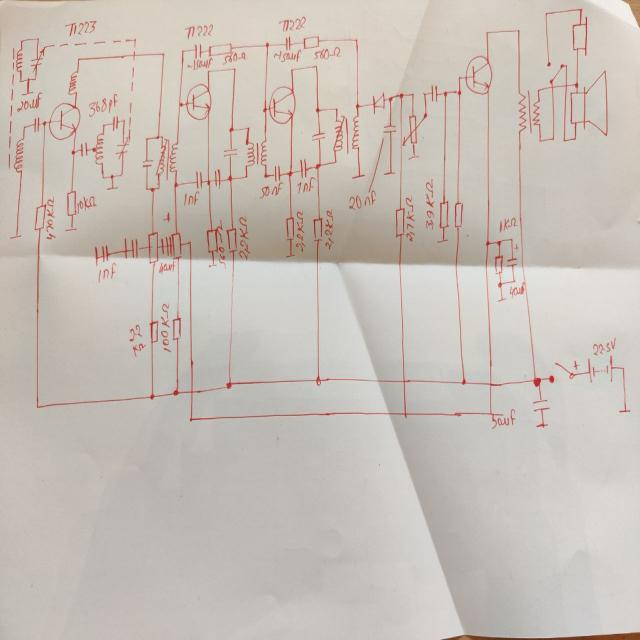capacitor: (28, 46, 46, 75), (114, 134, 133, 160), (163, 210, 173, 258), (506, 242, 520, 268), (532, 397, 550, 413), (312, 128, 326, 146), (130, 236, 140, 261), (212, 166, 222, 189), (381, 121, 396, 136), (429, 82, 439, 104), (221, 146, 239, 158), (100, 242, 110, 263), (192, 42, 202, 60), (79, 140, 89, 158), (299, 157, 307, 179), (32, 115, 41, 134), (282, 34, 292, 51), (111, 113, 119, 132), (195, 170, 203, 189), (273, 164, 281, 183), (141, 158, 153, 167)
crossover: (188, 386, 194, 396), (401, 377, 407, 384), (487, 380, 493, 387)
diode: (370, 90, 386, 114)
ground: (534, 420, 550, 430), (350, 172, 366, 181), (93, 244, 99, 266), (616, 406, 630, 414), (406, 153, 420, 161), (20, 89, 34, 97), (284, 253, 296, 262), (64, 225, 78, 232), (382, 170, 396, 177), (435, 237, 449, 244), (105, 185, 119, 192), (496, 296, 508, 304), (9, 233, 22, 240), (208, 263, 218, 269)
inductor: (4, 41, 26, 180), (67, 69, 78, 95)
junction: (530, 375, 542, 388), (225, 379, 233, 390), (172, 386, 180, 396), (315, 374, 321, 387), (69, 146, 76, 156), (460, 377, 467, 386), (228, 124, 235, 133), (315, 160, 321, 170), (177, 100, 183, 110), (354, 100, 360, 110), (398, 90, 404, 100), (442, 89, 448, 98), (227, 173, 233, 182), (149, 392, 155, 401), (456, 88, 462, 97), (34, 401, 40, 410), (160, 50, 166, 59), (149, 184, 155, 193), (264, 40, 270, 49), (206, 177, 212, 186), (144, 134, 150, 142), (620, 364, 626, 372), (484, 239, 490, 247), (314, 105, 320, 113), (187, 238, 193, 246), (287, 169, 293, 177), (187, 415, 193, 423), (495, 238, 501, 246), (549, 134, 555, 142), (409, 90, 415, 98), (572, 134, 578, 142), (560, 136, 566, 144), (332, 157, 338, 165), (34, 34, 40, 42), (172, 180, 178, 188), (535, 85, 541, 93), (574, 80, 580, 88), (313, 62, 319, 70), (232, 65, 238, 73), (205, 67, 211, 75), (537, 137, 543, 144), (402, 410, 408, 417), (483, 29, 489, 36), (18, 37, 24, 44), (244, 124, 250, 131), (243, 172, 249, 179), (288, 66, 294, 73), (456, 74, 462, 81), (353, 36, 359, 43), (41, 120, 47, 127), (497, 280, 502, 288), (109, 172, 114, 179), (100, 173, 105, 180), (144, 185, 149, 192), (22, 122, 26, 130), (516, 26, 520, 34), (543, 10, 548, 16), (180, 47, 184, 54), (33, 75, 37, 82), (262, 106, 266, 113), (122, 117, 126, 124), (76, 55, 80, 61), (578, 6, 582, 12), (156, 185, 160, 191), (156, 134, 160, 140), (119, 172, 123, 178), (26, 76, 30, 82), (509, 236, 513, 242), (101, 122, 105, 128), (160, 134, 164, 139), (18, 78, 22, 83)
resistor: (402, 110, 426, 147), (91, 130, 106, 165), (32, 202, 46, 232), (452, 197, 463, 235), (207, 41, 233, 56), (394, 206, 406, 238), (147, 232, 159, 264), (438, 198, 449, 230), (65, 188, 77, 217), (206, 225, 218, 254), (171, 231, 183, 260), (285, 215, 296, 245), (226, 227, 238, 254), (312, 217, 324, 243), (148, 318, 159, 344), (303, 34, 319, 50), (171, 316, 181, 340), (494, 253, 504, 274)
source: (587, 355, 613, 383)
switch: (548, 360, 576, 386), (545, 59, 566, 85)
text: (86, 92, 119, 116), (238, 212, 252, 261), (346, 189, 378, 210), (216, 216, 228, 271), (64, 19, 98, 38), (424, 177, 436, 230), (128, 322, 146, 357), (160, 301, 172, 352), (16, 91, 43, 112), (44, 195, 56, 240), (277, 15, 307, 33), (404, 193, 415, 242), (591, 336, 617, 356), (324, 208, 336, 251), (184, 22, 214, 39), (259, 181, 284, 201), (294, 175, 317, 195), (491, 409, 515, 428), (76, 194, 97, 215), (295, 209, 305, 251), (220, 50, 248, 65), (97, 261, 116, 283), (312, 46, 340, 60), (185, 56, 213, 70), (272, 50, 300, 61), (497, 216, 517, 231), (182, 191, 200, 206), (157, 259, 175, 273), (508, 284, 524, 296), (572, 359, 580, 371)
transformer: (331, 108, 361, 153), (516, 89, 542, 132), (154, 138, 180, 179), (245, 137, 268, 169)
transistor: (47, 99, 81, 143), (464, 54, 493, 95), (269, 83, 297, 125), (186, 82, 212, 122)
